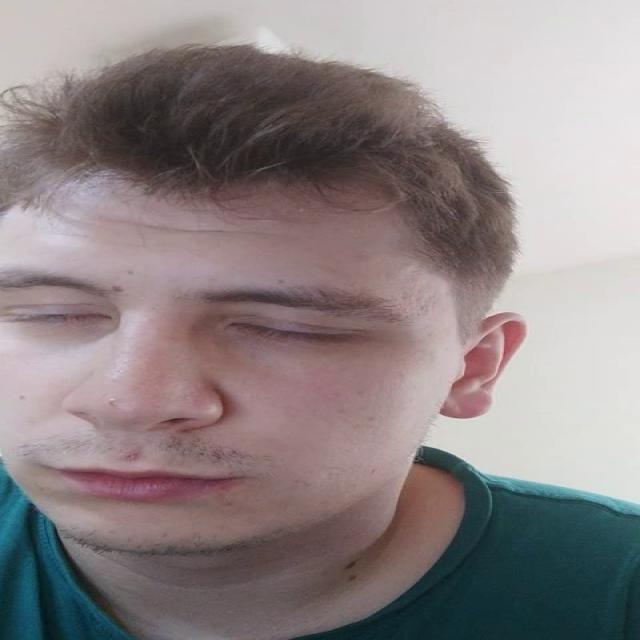Eyeclosed: (229, 311, 360, 354), (2, 301, 112, 336)
